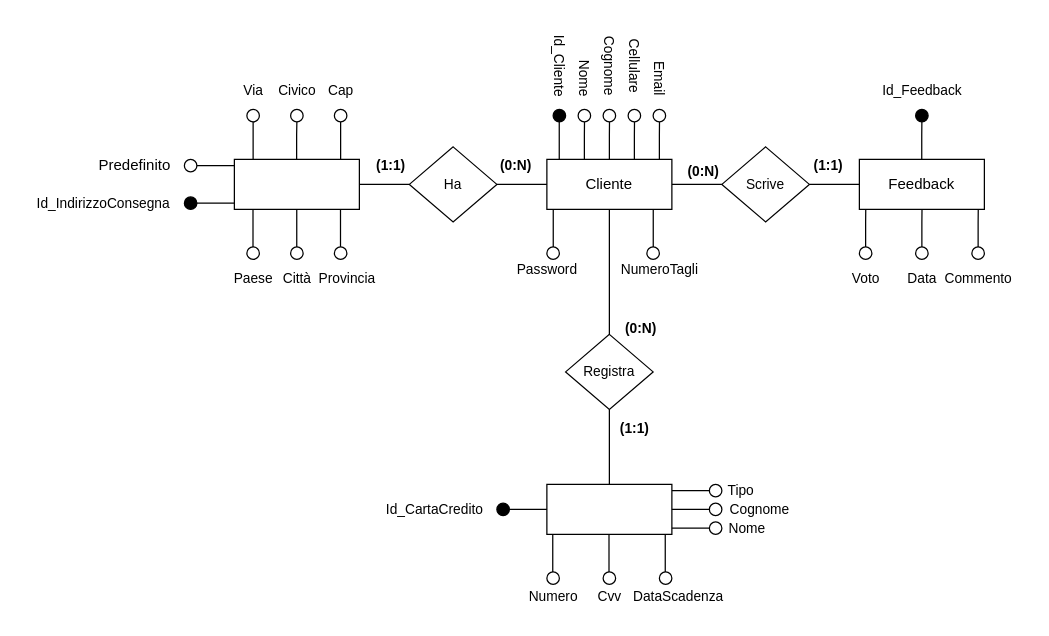
The diagram is 1049 pixels wide and 636 high, and some of its shapes have lost their labels. Here are the shapes that lost their labels. From the top down, the box of each, then its label:
(233, 158, 359, 209): IndirizzoConsegna
(546, 483, 672, 534): CartaCredito
